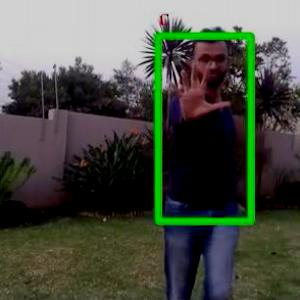follow_hand: (164, 50, 235, 126)
